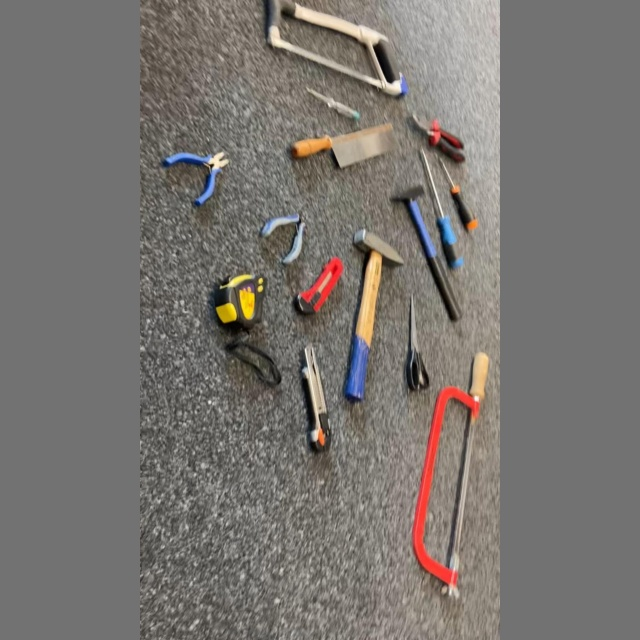scissor: (402, 286, 435, 398)
screwdriver: (415, 141, 468, 275), (435, 155, 482, 237), (302, 83, 364, 123)
